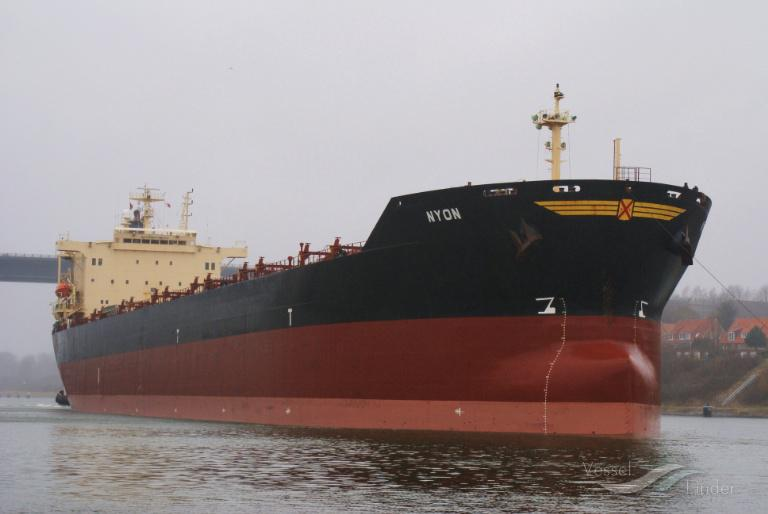OCR: (419, 207, 468, 233)
